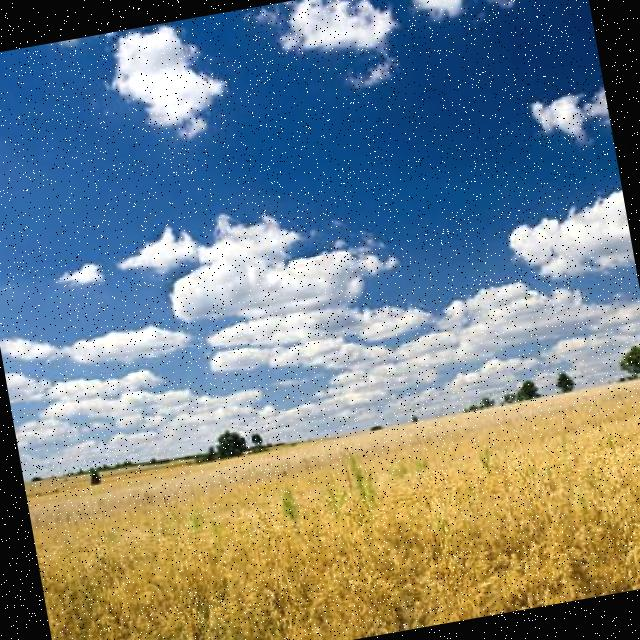Cc: (1, 187, 434, 438)
